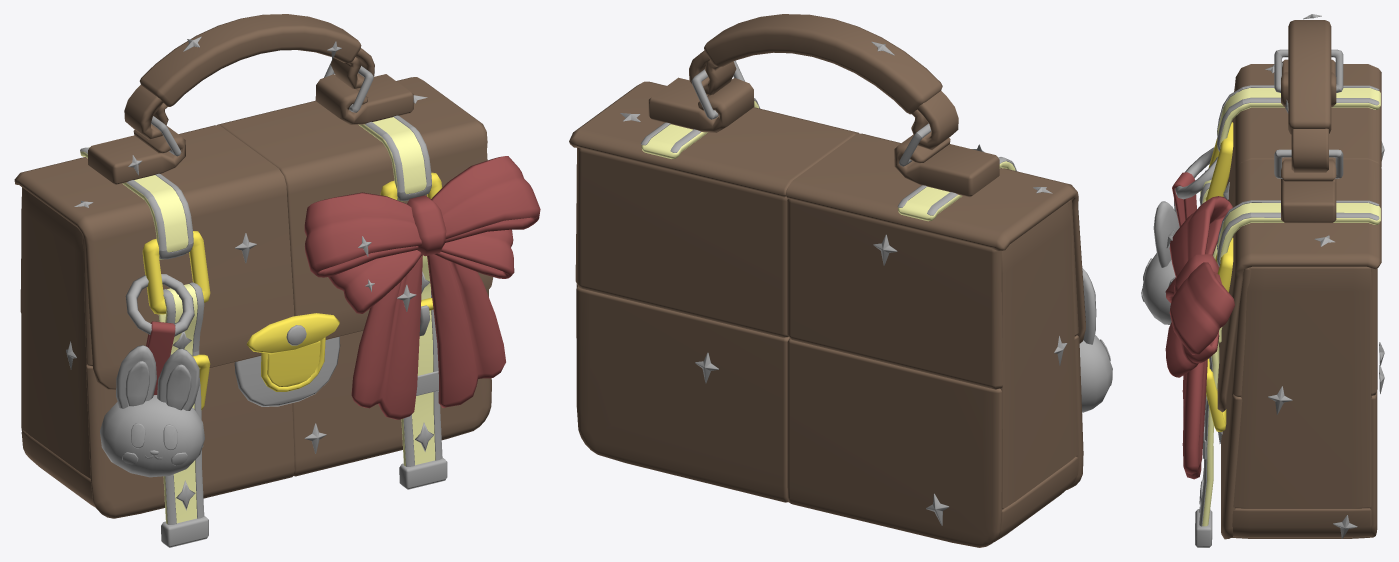
The model's file is HandBag.fbx.
The picture shows the model from 3 angles, left to right: view 1: azimuth 30°, elevation 25°; view 2: azimuth 150°, elevation 25°; view 3: azimuth 270°, elevation 25°; orthographic projection. The views are drawn at different scales.
Visible parts, largest first — view 1: S_HandBag18, S_HandBag19, S_HandBag48, S_HandBag21, S_HandBag43, S_HandBag20, S_HandBag12, S_HandBag8, S_HandBag15, S_HandBag9, M_HandBag18, S_HandBag17 (+19 smaller); view 2: S_HandBag27, S_HandBag29, S_HandBag26, S_HandBag28, S_HandBag48, S_HandBag18, S_HandBag19, S_HandBag43, S_HandBag1, S_HandBag2, S_HandBag49, M_HandBag18 (+4 smaller); view 3: S_HandBag, S_HandBag19, S_HandBag18, S_HandBag43, S_HandBag8, S_HandBag47, S_HandBag2, S_HandBag9, S_HandBag12, S_HandBag20, S_HandBag4, S_HandBag3 (+15 smaller).
Part boxes in pixels (box(x1,y1,x2,y2)): S_HandBag18: box(14, 125, 294, 389); S_HandBag19: box(217, 77, 493, 339); S_HandBag48: box(21, 188, 90, 478); S_HandBag21: box(86, 362, 294, 518); S_HandBag43: box(124, 14, 374, 139); S_HandBag20: box(292, 290, 491, 476); S_HandBag12: box(427, 254, 505, 407); S_HandBag8: box(407, 156, 540, 256); S_HandBag15: box(351, 255, 422, 419); S_HandBag9: box(304, 192, 421, 277); M_HandBag18: box(100, 395, 204, 477); S_HandBag17: box(246, 313, 339, 391); S_HandBag27: box(787, 338, 1002, 547); S_HandBag29: box(576, 286, 789, 502); S_HandBag26: box(787, 199, 1002, 389); S_HandBag28: box(575, 148, 788, 337); S_HandBag48: box(1000, 201, 1078, 509); S_HandBag18: box(786, 133, 1085, 343); S_HandBag19: box(569, 81, 859, 197); S_HandBag43: box(689, 14, 958, 149); S_HandBag1: box(894, 134, 999, 197); S_HandBag2: box(648, 77, 754, 132); S_HandBag49: box(993, 457, 1078, 542); M_HandBag18: box(1079, 334, 1112, 412); S_HandBag: box(1233, 266, 1371, 508); S_HandBag19: box(1217, 159, 1381, 412); S_HandBag18: box(1226, 64, 1381, 204); S_HandBag43: box(1288, 20, 1331, 172); S_HandBag8: box(1169, 254, 1234, 354); S_HandBag47: box(1232, 508, 1371, 537); S_HandBag2: box(1281, 159, 1336, 223); S_HandBag9: box(1169, 196, 1232, 277); S_HandBag12: box(1182, 359, 1207, 479); S_HandBag20: box(1221, 360, 1242, 539); S_HandBag4: box(1217, 203, 1380, 262); S_HandBag3: box(1217, 88, 1380, 147).
Bounding box in the file's own units: 551 × 542 × 269.
